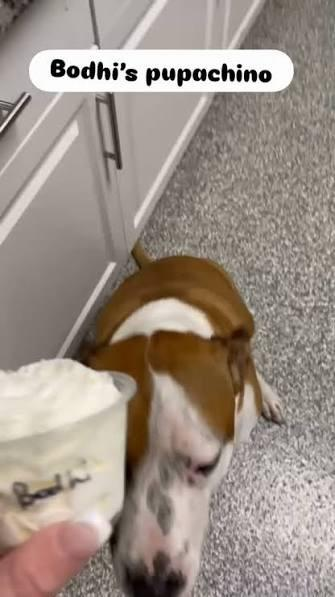adult_dog: (80, 248, 287, 597)
